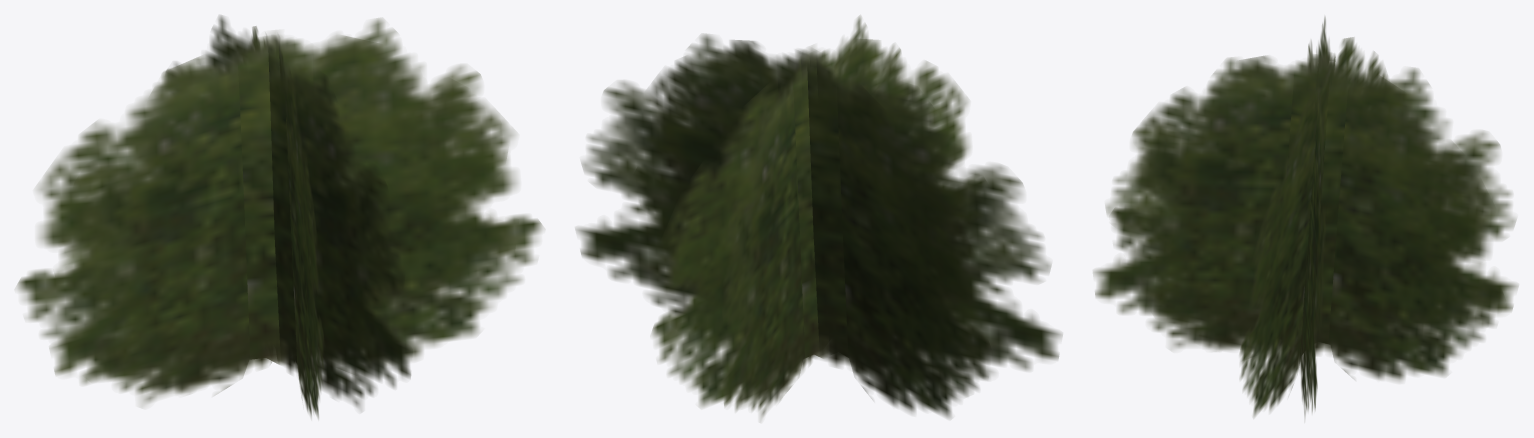
The model's file is o3_cespuglio_tondo.glb.
3 views of the same model, side by side, from view 1: azimuth 30°, elevation 25°; view 2: azimuth 150°, elevation 25°; view 3: azimuth 270°, elevation 25° (orthographic). The views are drawn at different scales.
Visible parts, largest first — view 1: sb_modello; view 2: sb_modello; view 3: sb_modello.
Boxes of the visible parts, x1,y1,x2,y2 form: sb_modello: (16,15,542,418); sb_modello: (575,16,1062,420); sb_modello: (1093,17,1518,417).
Bounding box in the file's own units: 2.14 × 1.5 × 1.77.
Materials: 1 (1 with a texture image).
